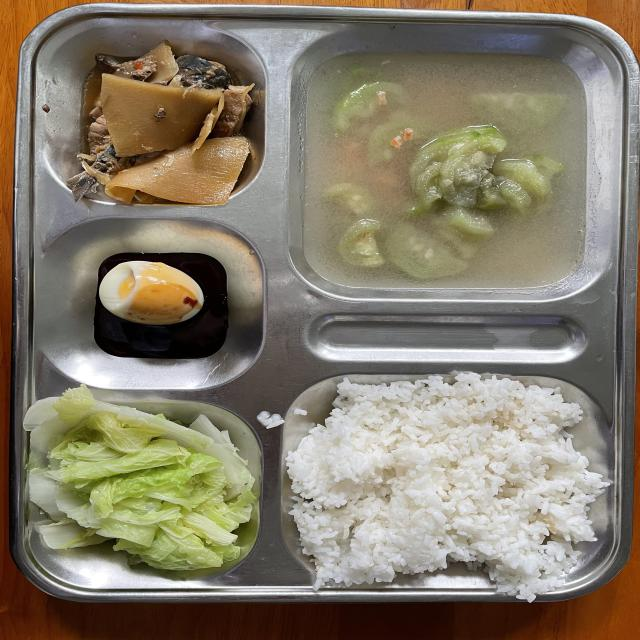bap cai luoc: (24, 385, 256, 570)
ca kho: (87, 63, 243, 196)
canh bau: (303, 52, 588, 290)
com: (287, 373, 609, 600)
trung luoc: (99, 261, 204, 325)
